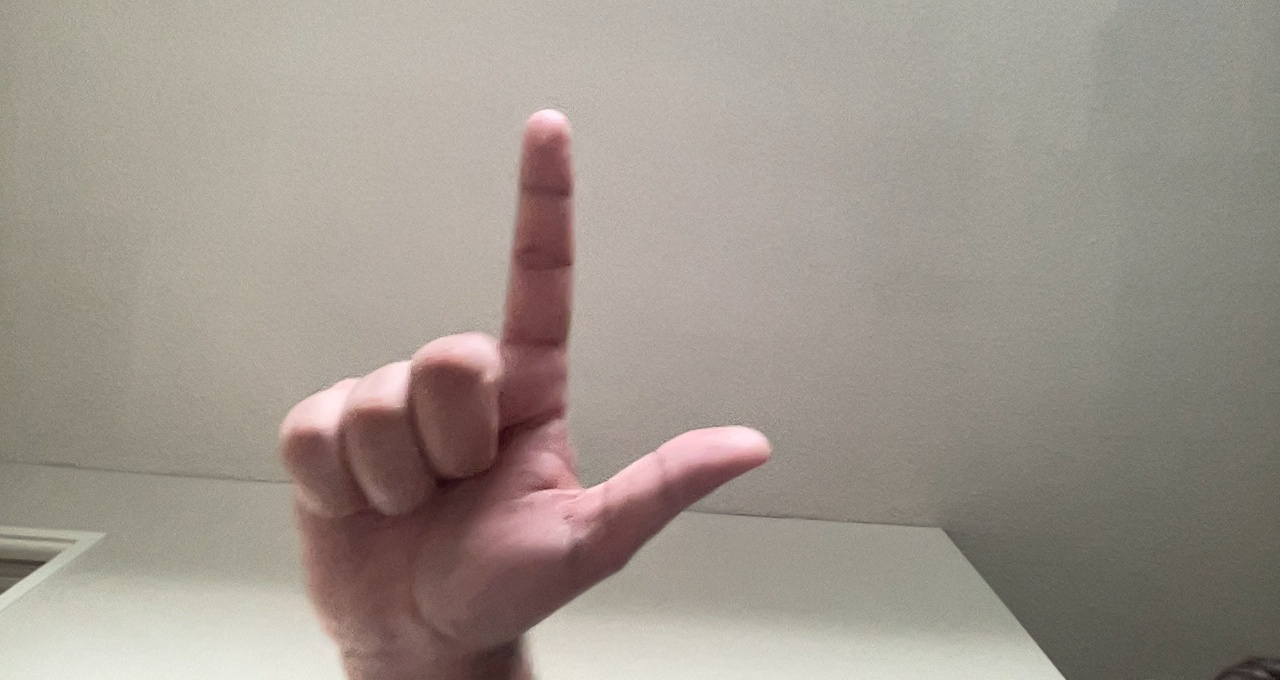L: (270, 96, 777, 662)
